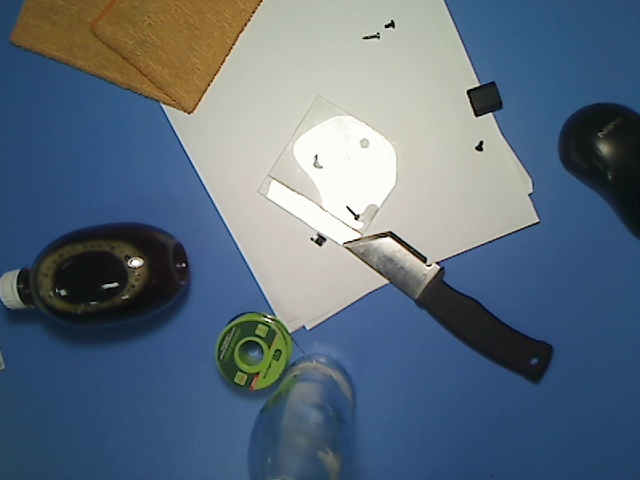plast_bottle: (1, 218, 193, 332)
